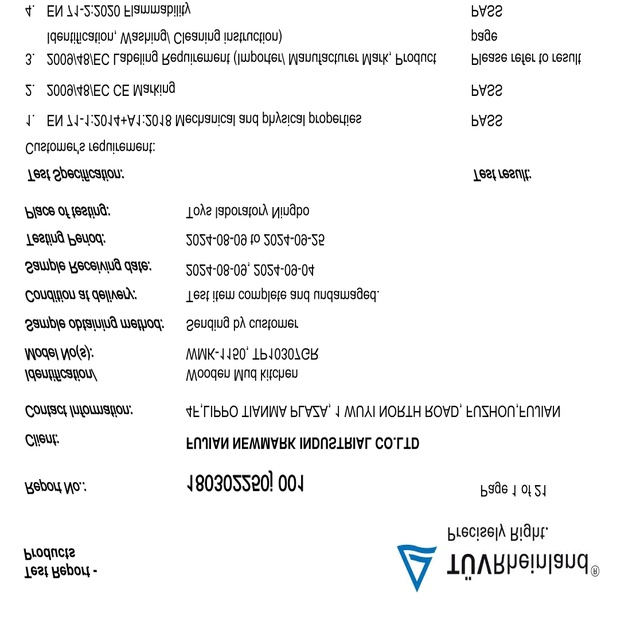tuv_rheinland: (395, 542, 604, 590)
